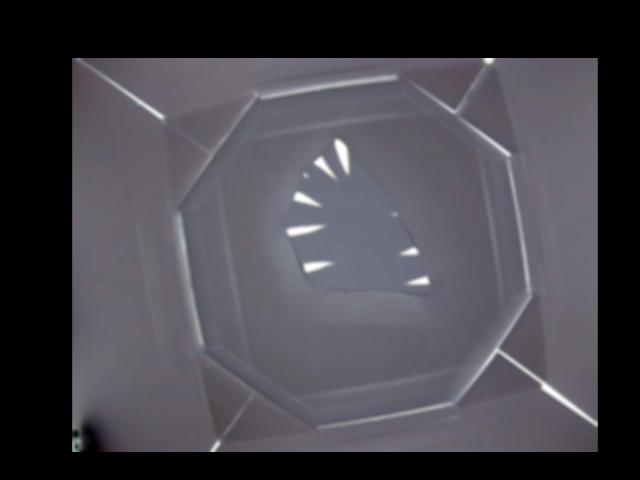China: (283, 134, 435, 297)
